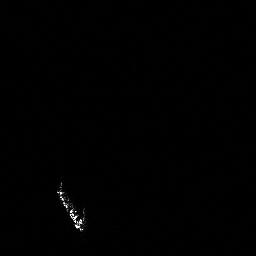ship: (53, 178, 88, 233)
